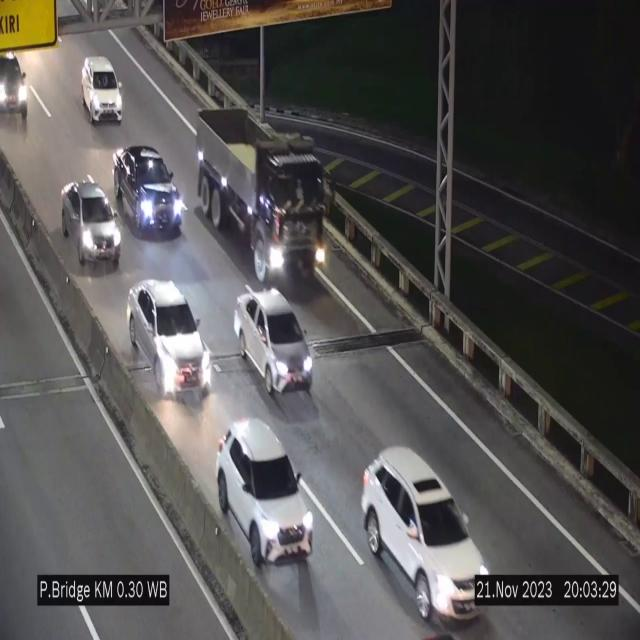Car: (361, 446, 488, 624), (217, 420, 313, 564), (128, 280, 212, 401), (233, 289, 313, 398), (114, 146, 184, 234), (62, 181, 121, 268), (0, 48, 34, 128), (81, 57, 122, 123)
Truck: (193, 101, 330, 286)
